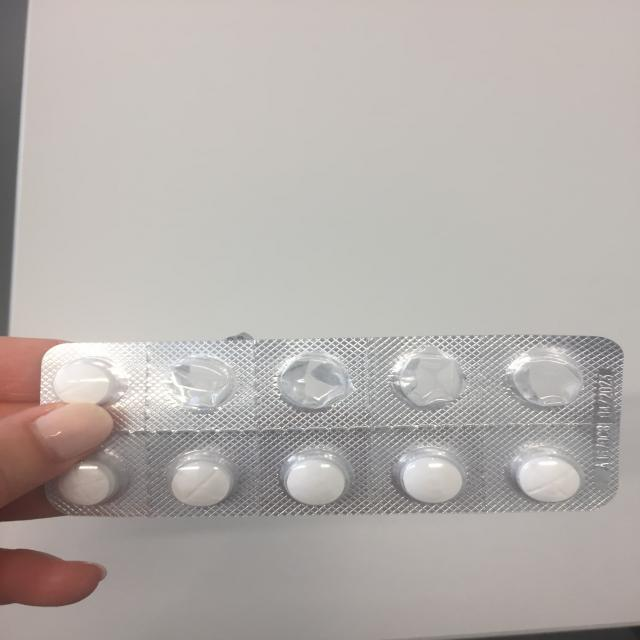Empty: (157, 356, 234, 412)
